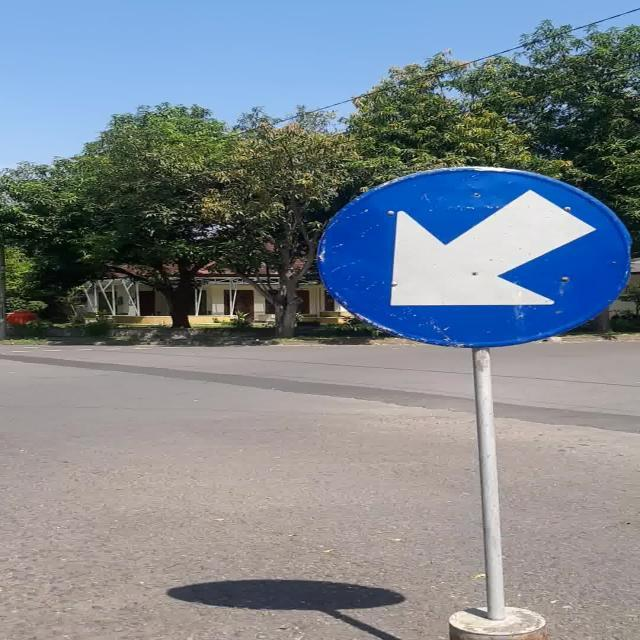Lajur Kiri: (318, 166, 632, 346)
